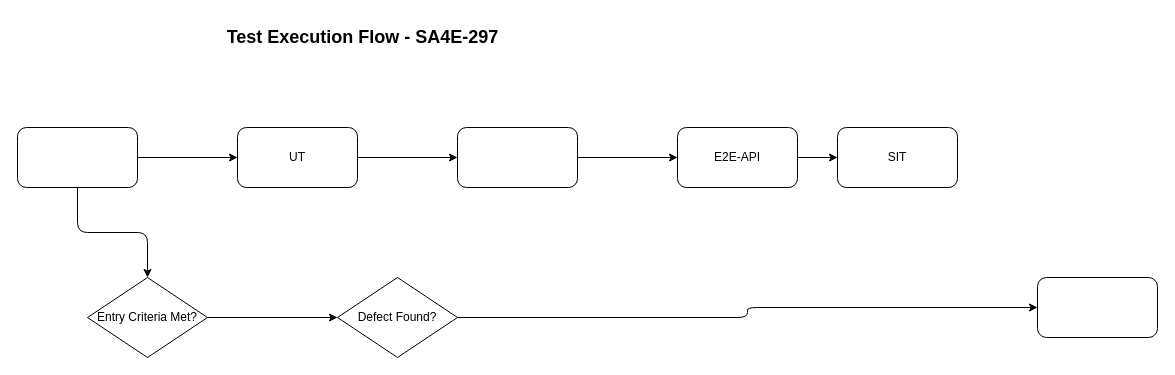
This 1175x375 diagram has some shape labels left out. Each missing label, with the centre of its shape:
IT: the point at 517,157
PBT: the point at 77,157
QA Sign-off: the point at 1097,307
